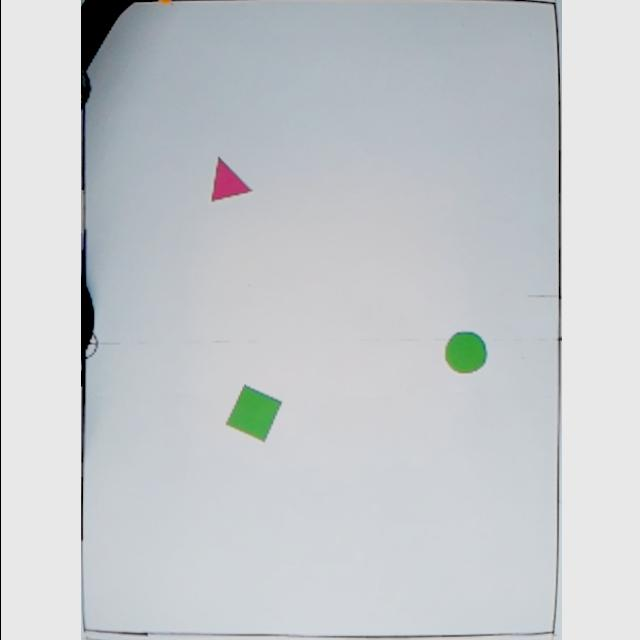greenCircle: (438, 331, 488, 377)
greenSquare: (222, 384, 282, 442)
pinkTriangle: (208, 156, 252, 210)
